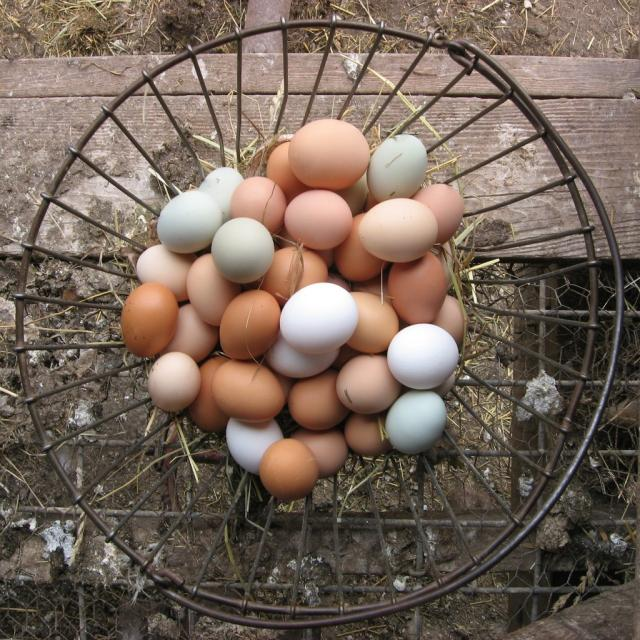Egg: (177, 165, 448, 444), (286, 119, 371, 187), (279, 282, 358, 351), (359, 197, 438, 262), (387, 323, 460, 391), (220, 289, 280, 370), (213, 360, 284, 428), (282, 188, 354, 252), (119, 282, 179, 358), (210, 217, 274, 285), (258, 439, 319, 504)
